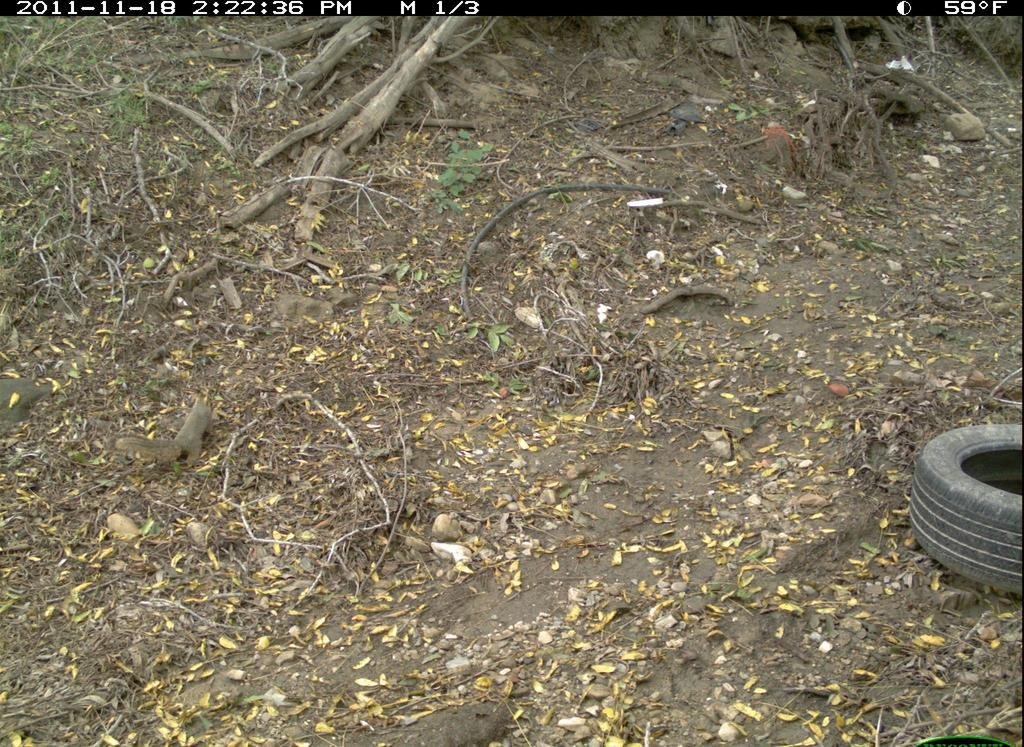squirrel: (112, 379, 241, 478)
